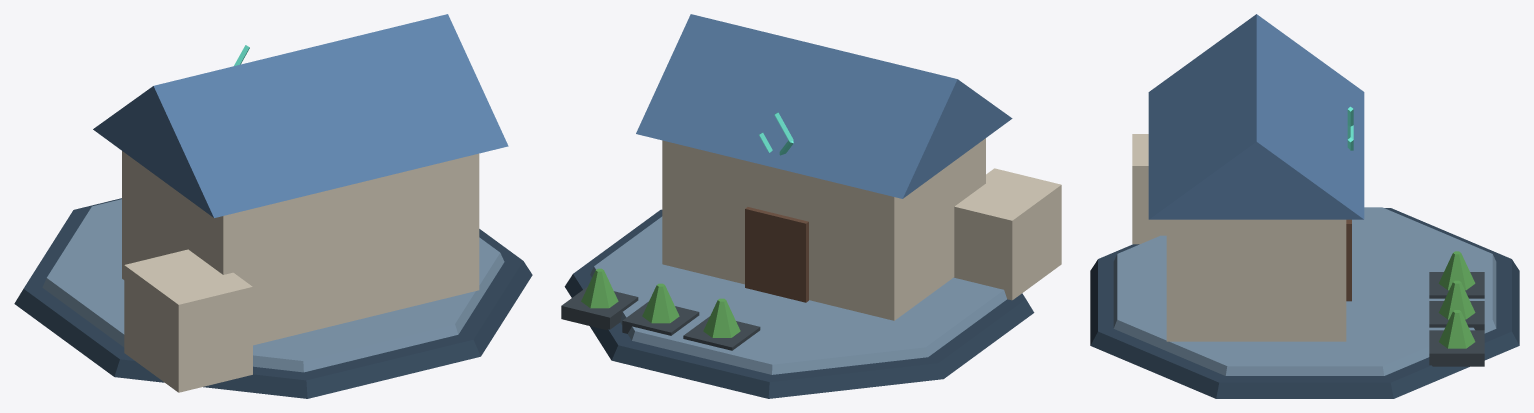
Rendered from Hospital_2.fbx.
The picture shows the model from 3 angles, left to right: view 1: azimuth 30°, elevation 25°; view 2: azimuth 150°, elevation 25°; view 3: azimuth 270°, elevation 25°; orthographic projection. The views are drawn at different scales.
Parts seen in each view (by area): view 1: Hospital_2; view 2: Hospital_2; view 3: Hospital_2.
Part boxes in pixels (bbox=[...]): Hospital_2: bbox=[14, 14, 532, 398]; Hospital_2: bbox=[561, 14, 1061, 398]; Hospital_2: bbox=[1090, 14, 1519, 398].
Size of the model in its own units: 2.7 by 1.6 by 2.7.
